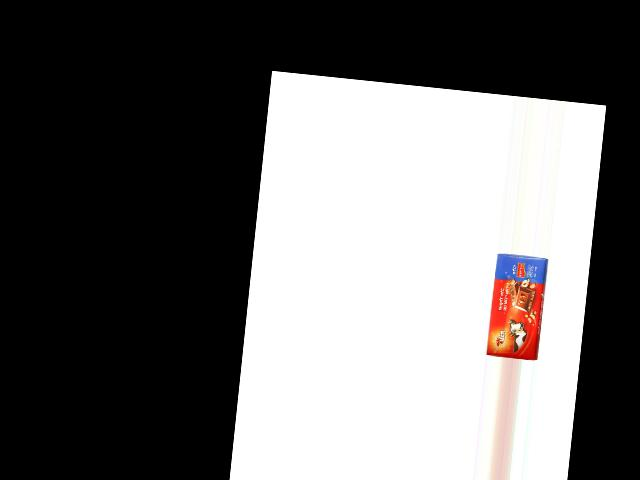chocolate: (487, 254, 552, 361)
